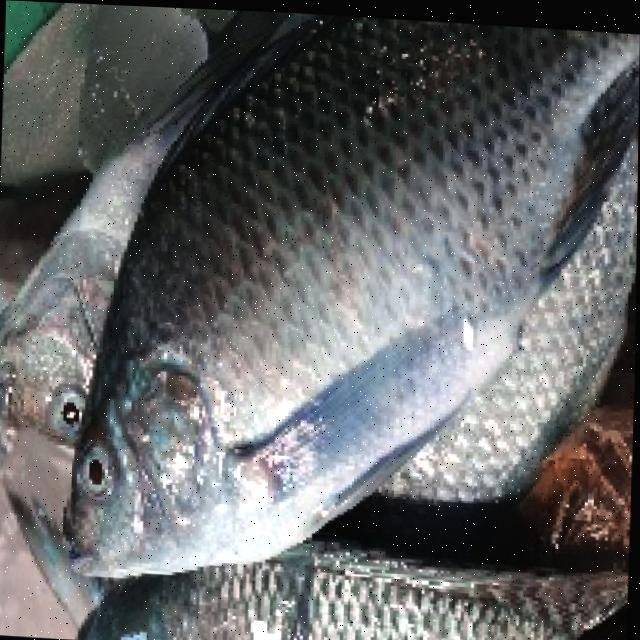Fresh: (28, 1, 640, 606)
